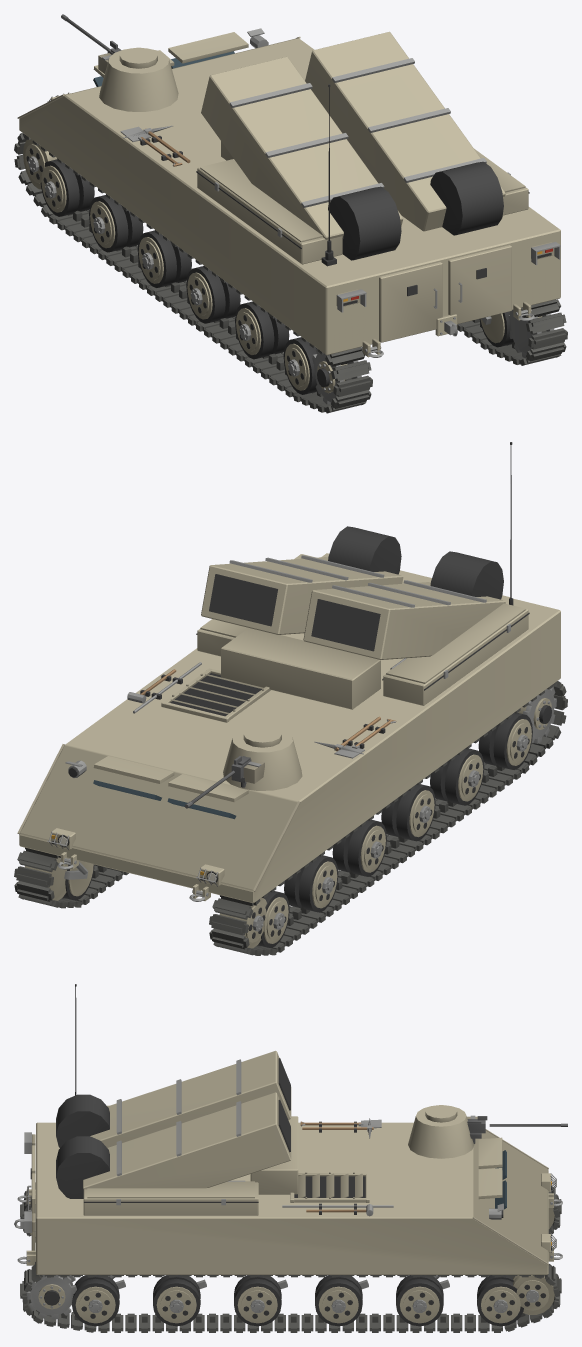
File: rus_eng_ur77.glb
3 renders of one model, top to bottom at view 1: azimuth 30°, elevation 25°; view 2: azimuth 150°, elevation 25°; view 3: azimuth 270°, elevation 25°, orthographic. The views are drawn at different scales.
Visible parts, largest first — view 1: body, turret, barrel; view 2: body, turret, barrel; view 3: body, turret, barrel.
Part boxes in pixels (x1,y1,x2,y2): body: (14,28,567,413); turret: (99,47,178,111); barrel: (61,14,121,73); body: (14,442,567,955); turret: (223,726,302,790); barrel: (185,756,264,808); body: (14,984,562,1332); turret: (408,1105,474,1158); barrel: (467,1115,567,1143).
Bounding box in the file's own units: 2.89 × 3.67 × 6.97.
